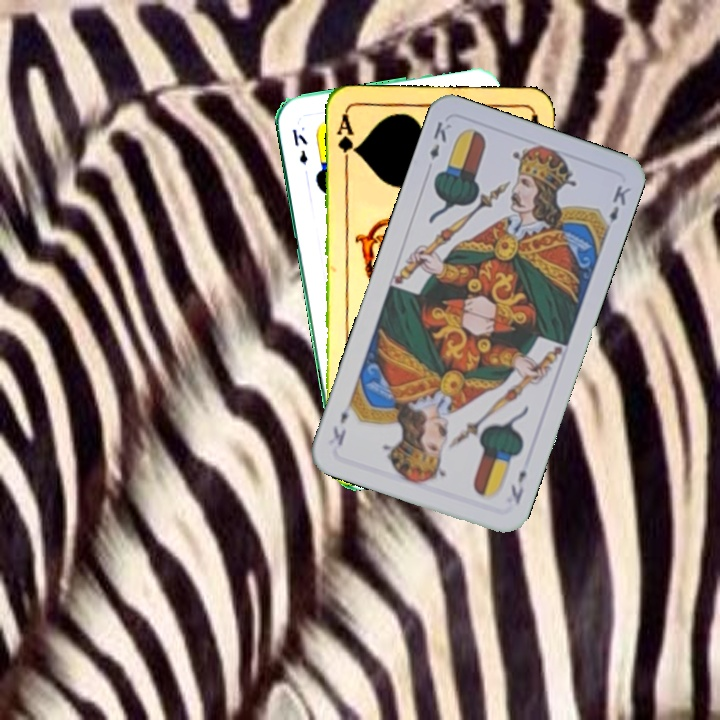EK: (425, 117, 454, 163), (288, 124, 311, 167), (506, 466, 529, 507)
GA: (332, 110, 359, 169)
